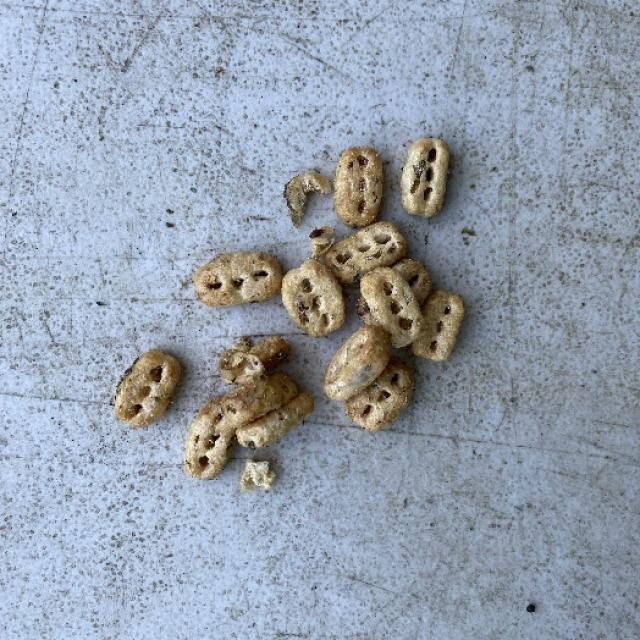organik: (112, 350, 184, 428), (193, 249, 283, 307), (359, 267, 424, 347), (323, 326, 392, 399), (344, 359, 414, 430), (281, 260, 344, 337), (400, 137, 454, 217), (410, 288, 466, 361), (332, 145, 382, 226), (282, 170, 332, 226)
